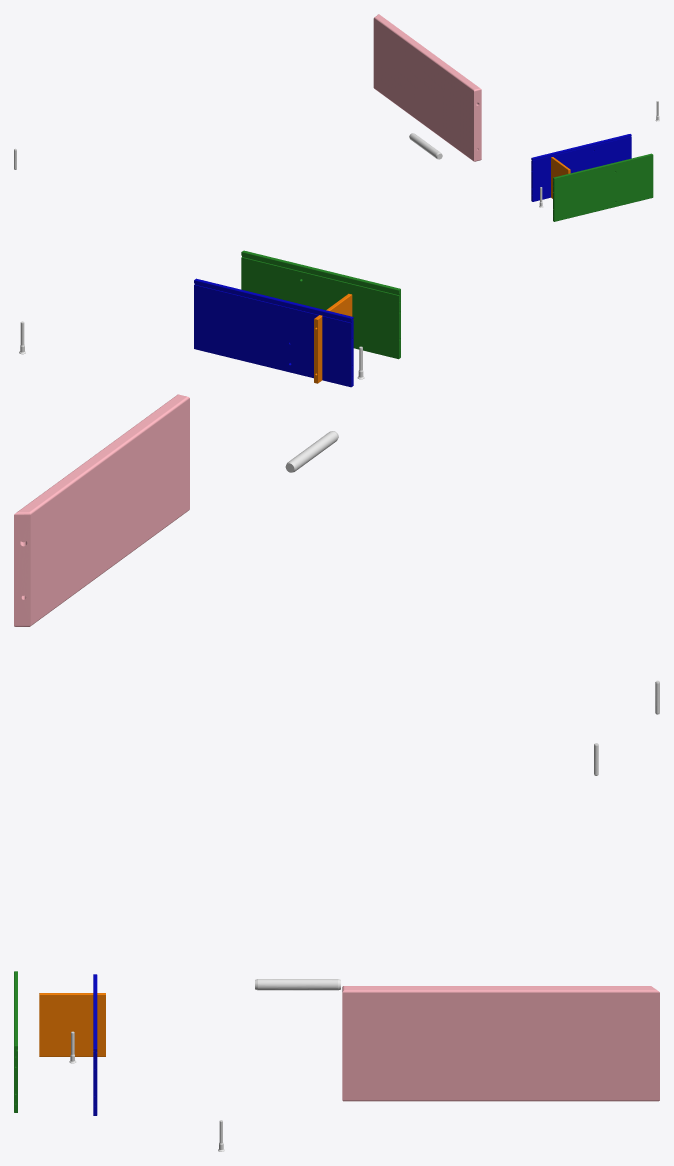
3 views of the same model, one above another, from view 1: azimuth 30°, elevation 25°; view 2: azimuth 150°, elevation 25°; view 3: azimuth 270°, elevation 25° (orthographic). The views are drawn at different scales.
Parts seen in each view (by area): view 1: 6, 3.001, 4; view 2: 6, 4, 3.001, 5, หมุดยาว; view 3: 6, 5, หมุดยาว, 4.
Part boxes in pixels (<box>): 6: <box>373,14,481,161</box>; 3.001: <box>553,153,653,221</box>; 4: <box>531,134,631,201</box>; 6: <box>14,394,189,626</box>; 4: <box>194,278,353,387</box>; 3.001: <box>241,250,400,359</box>; 5: <box>314,293,352,383</box>; หมุดยาว: <box>285,431,338,472</box>; 6: <box>342,986,659,1101</box>; 5: <box>39,993,105,1056</box>; หมุดยาว: <box>255,979,340,990</box>; 4: <box>93,974,97,1115</box>.
Size of the model in its own units: 16.29 by 2.14 by 11.27.
